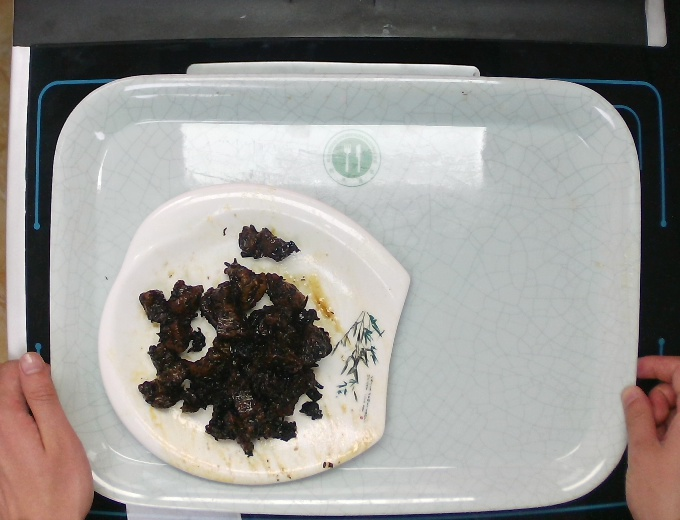JYsf-Mian_Pan: (94, 176, 417, 494)
